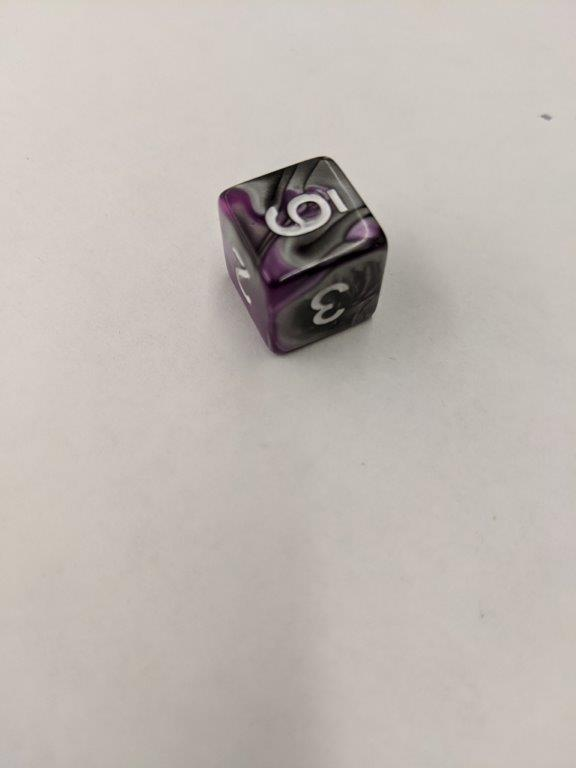d6-6: (219, 153, 387, 357)
